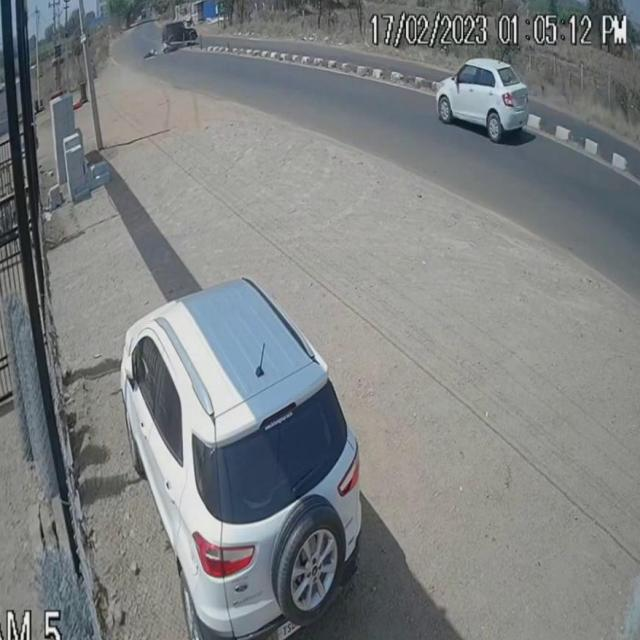accident: (145, 15, 202, 65)
